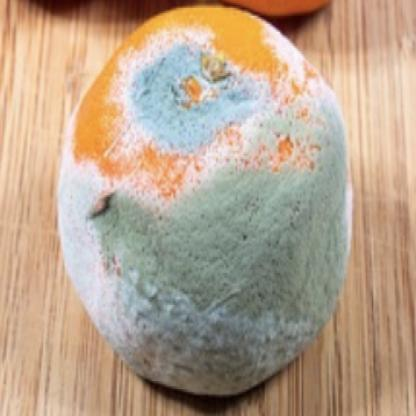rotten: (58, 8, 353, 399)
